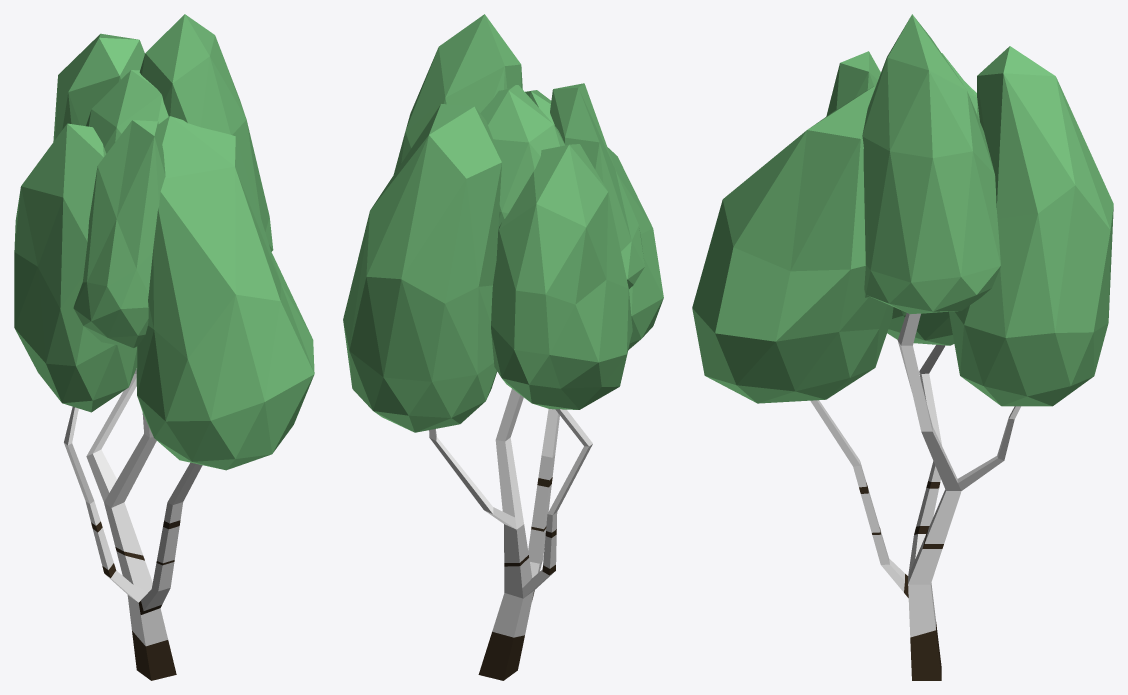
Rendered from BirchTree1.fbx.
The picture shows the model from 3 angles, left to right: view 1: azimuth 30°, elevation 25°; view 2: azimuth 150°, elevation 25°; view 3: azimuth 270°, elevation 25°; orthographic projection. The views are drawn at different scales.
Visible parts, largest first — view 1: Cube; view 2: Cube; view 3: Cube.
Boxes of the visible parts, x1,y1,x2,y2 form: Cube: [14, 14, 314, 680]; Cube: [343, 14, 663, 680]; Cube: [692, 14, 1113, 680].
Size of the model in its own units: 458 by 1263 by 719.
